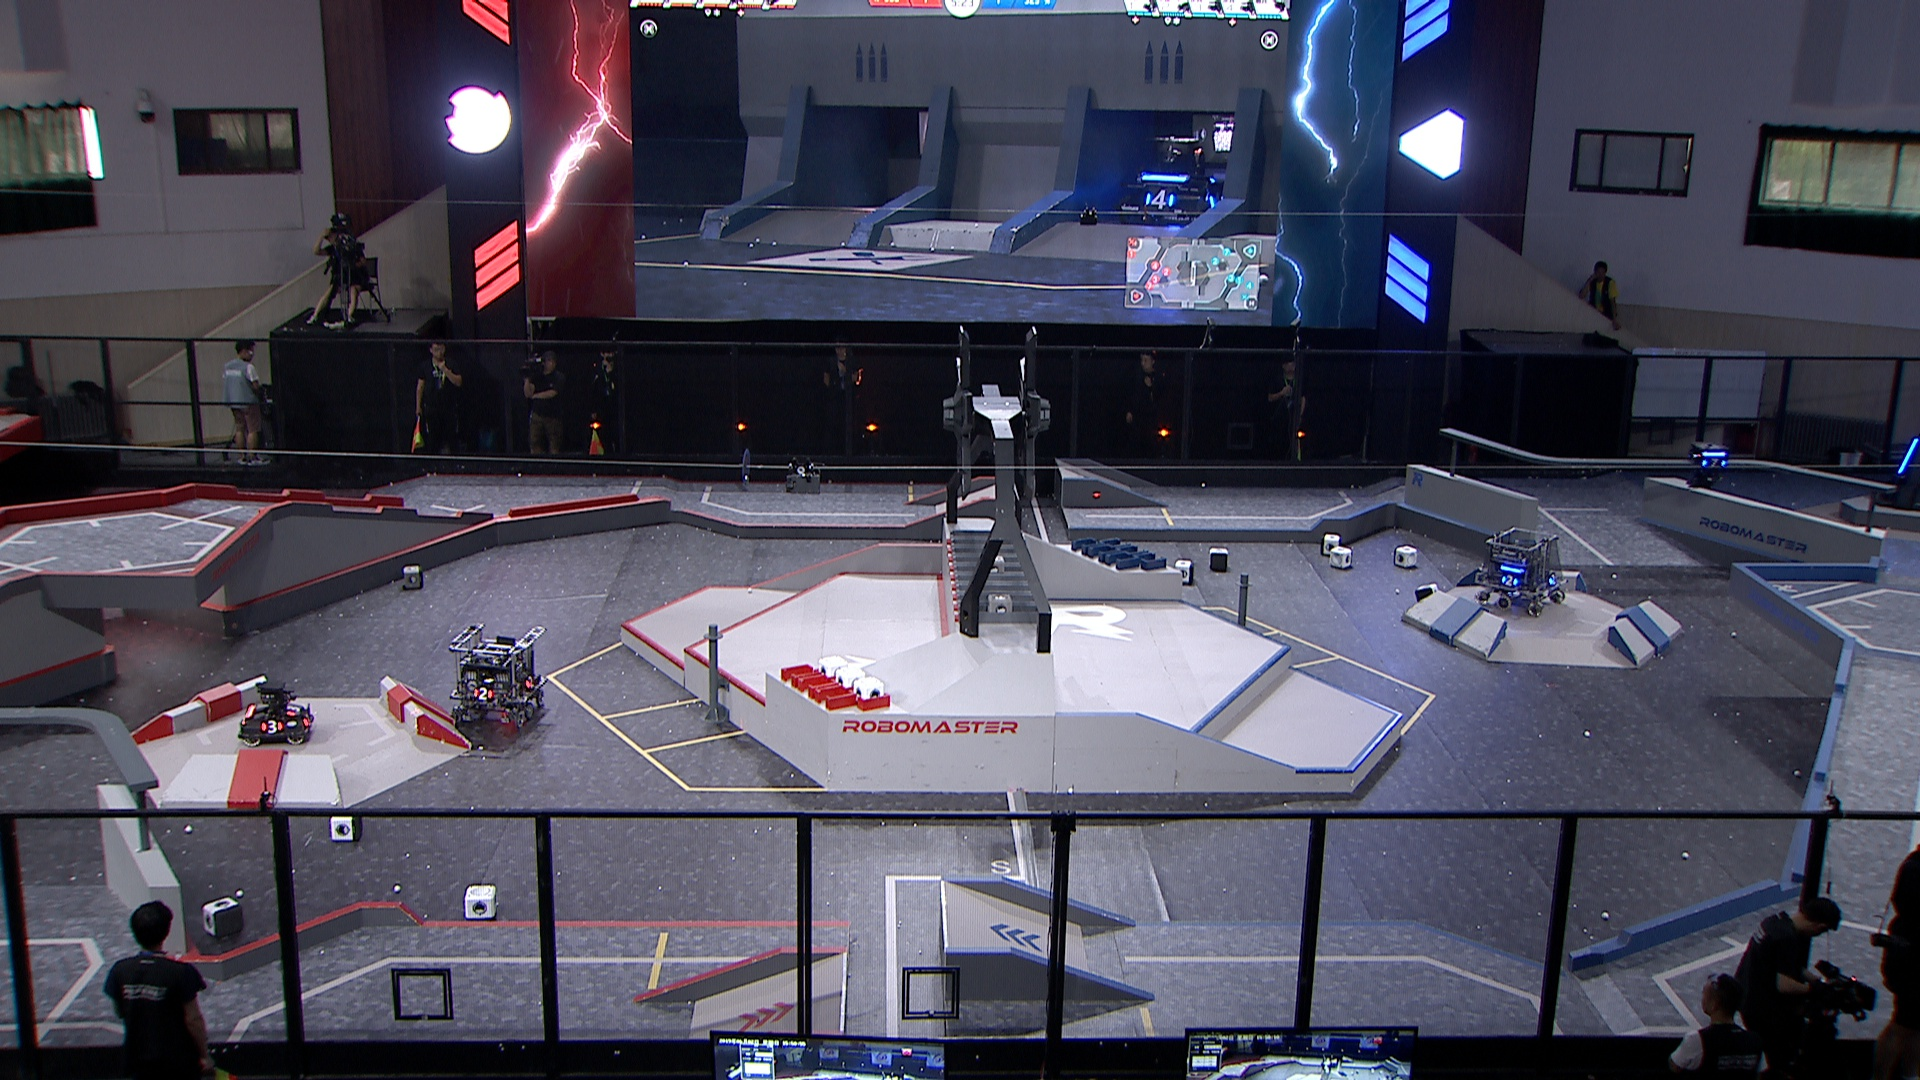armor: (1896, 436, 1917, 476), (258, 717, 282, 735), (1498, 572, 1516, 589), (472, 684, 491, 700), (1702, 455, 1727, 465), (301, 712, 318, 727), (286, 699, 301, 713), (1545, 572, 1561, 585), (524, 674, 535, 690)
base: (1871, 414, 1920, 514)
car: (446, 618, 549, 731), (1474, 524, 1567, 615), (235, 675, 315, 746)
ignore: (1116, 129, 1228, 232)
watcher: (1684, 436, 1731, 495)
